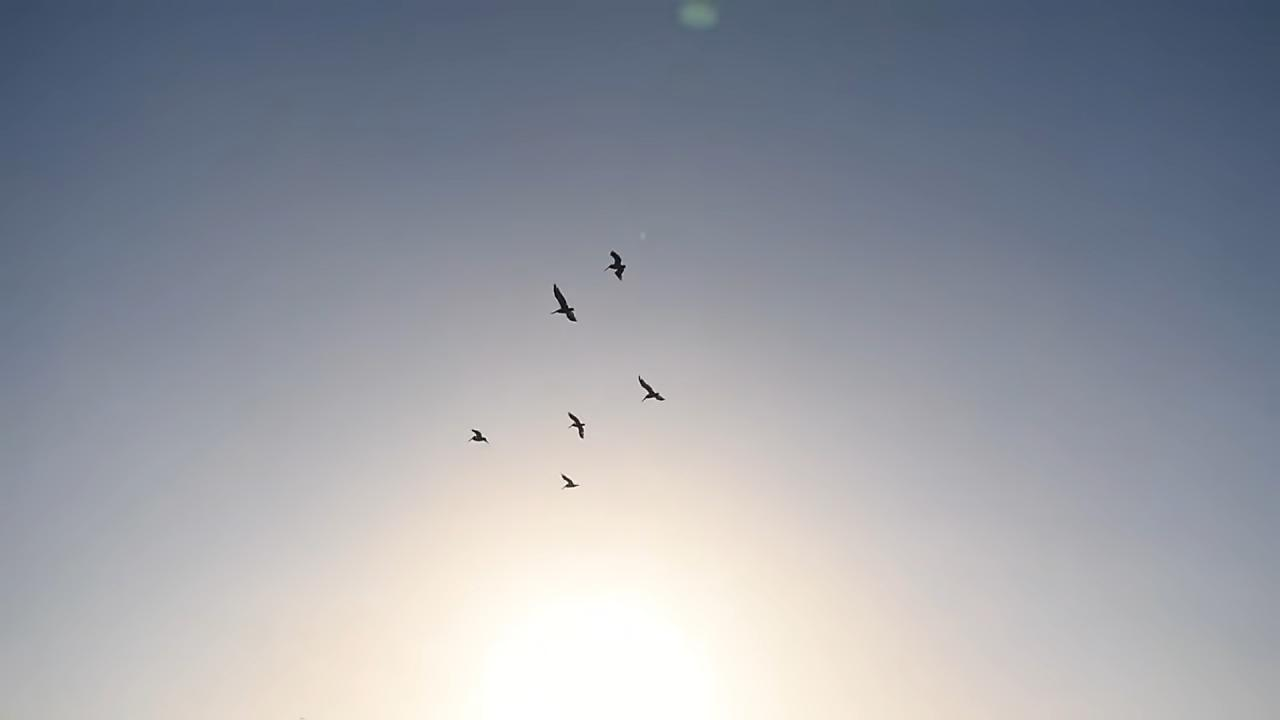Bird: (544, 282, 586, 334), (630, 370, 674, 412), (557, 407, 599, 445), (595, 248, 639, 284), (460, 422, 498, 454), (552, 469, 588, 497)
